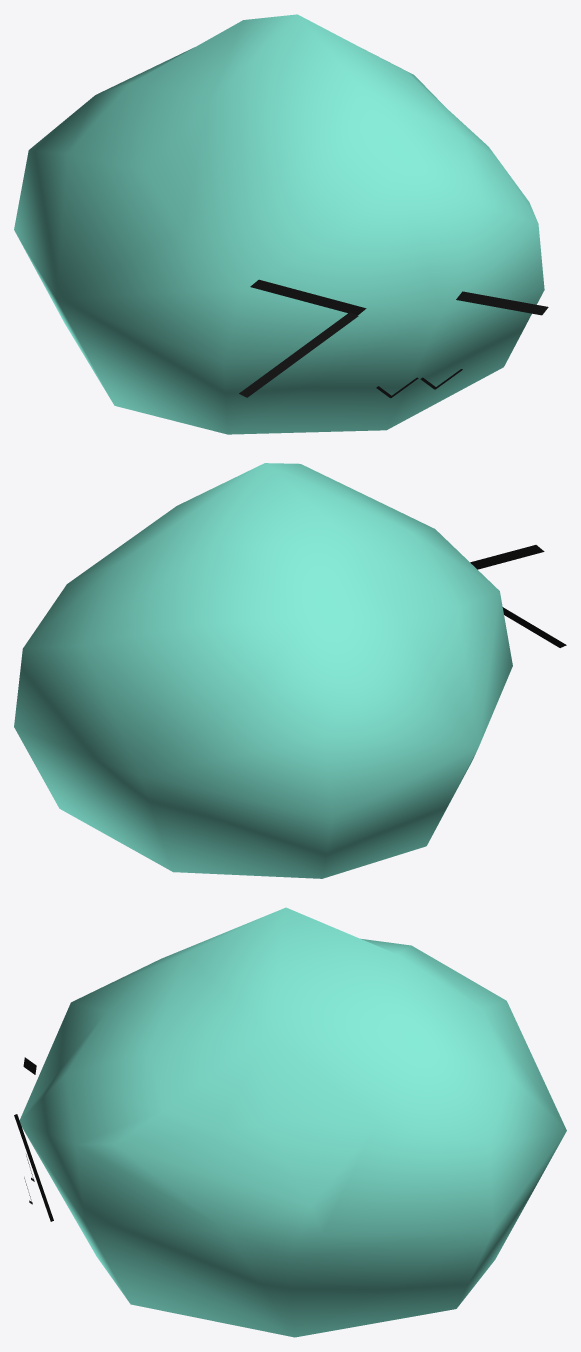
The model's file is slime.glb.
The picture shows the model from 3 angles, top to bottom: view 1: azimuth 30°, elevation 25°; view 2: azimuth 150°, elevation 25°; view 3: azimuth 270°, elevation 25°; orthographic projection. The views are drawn at different scales.
Visible parts, largest first — view 1: slime, Plane; view 2: slime, Plane; view 3: slime, Plane.
Boxes of the visible parts, x1,y1,x2,y2 form: slime: (14, 14, 544, 434); Plane: (239, 279, 548, 397); slime: (14, 463, 512, 878); Plane: (470, 545, 566, 647); slime: (19, 907, 566, 1337); Plane: (14, 1057, 53, 1221).
Size of the model in its own units: 1.51 by 1.18 by 1.63.
